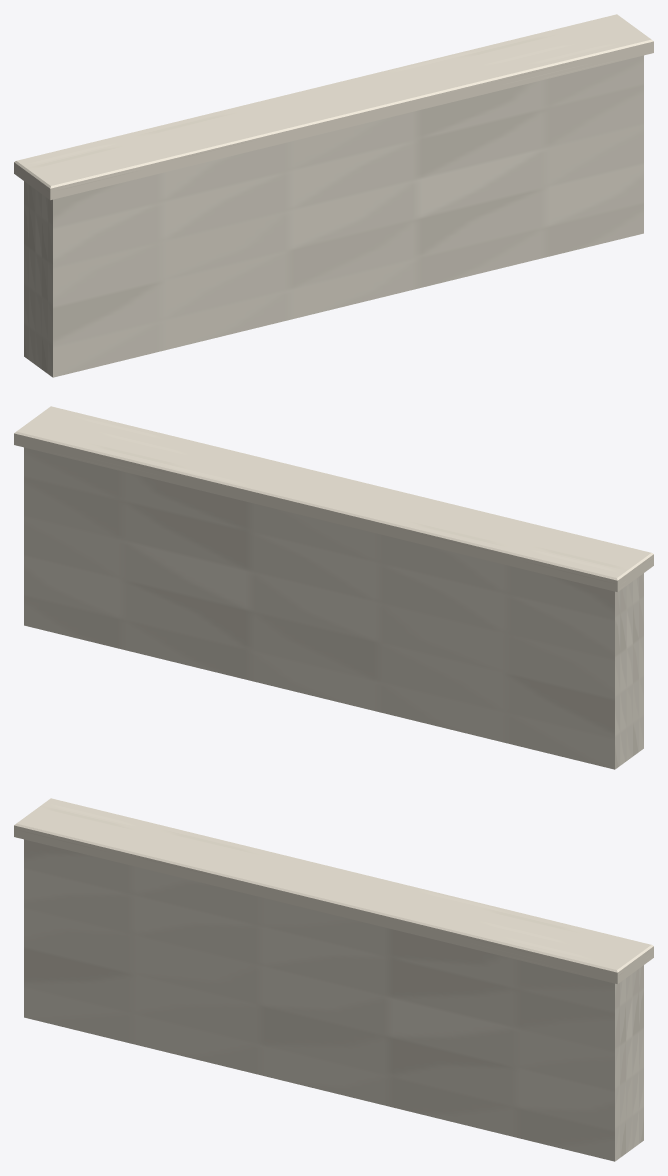
File: town_parapet.glb
The picture shows the model from 3 angles, top to bottom: view 1: azimuth 30°, elevation 25°; view 2: azimuth 150°, elevation 25°; view 3: azimuth 330°, elevation 25°; orthographic projection.
Parts seen in each view (by area): view 1: town_parapet; view 2: town_parapet; view 3: town_parapet.
Part boxes in pixels (x1,y1,x2,y2): town_parapet: (14, 14, 653, 377); town_parapet: (14, 406, 653, 769); town_parapet: (14, 798, 653, 1161).
Size of the model in its own units: 2.4 by 0.74 by 0.25.
Materials: 2 (2 with a texture image).
